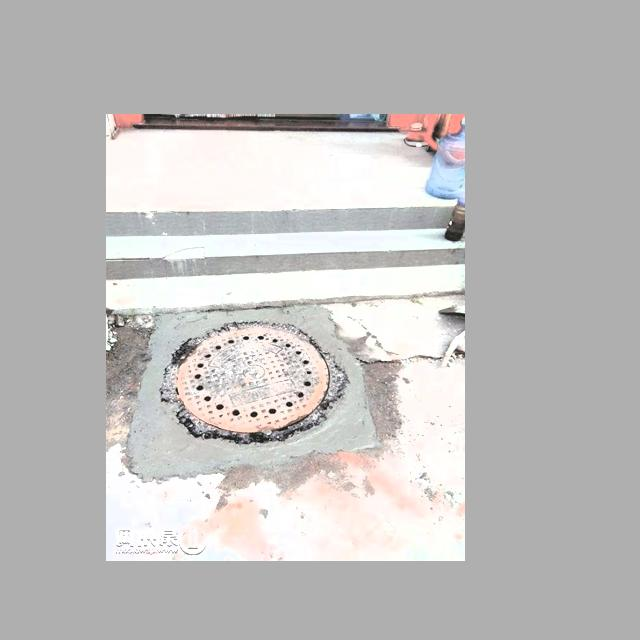good: (132, 305, 351, 472)
